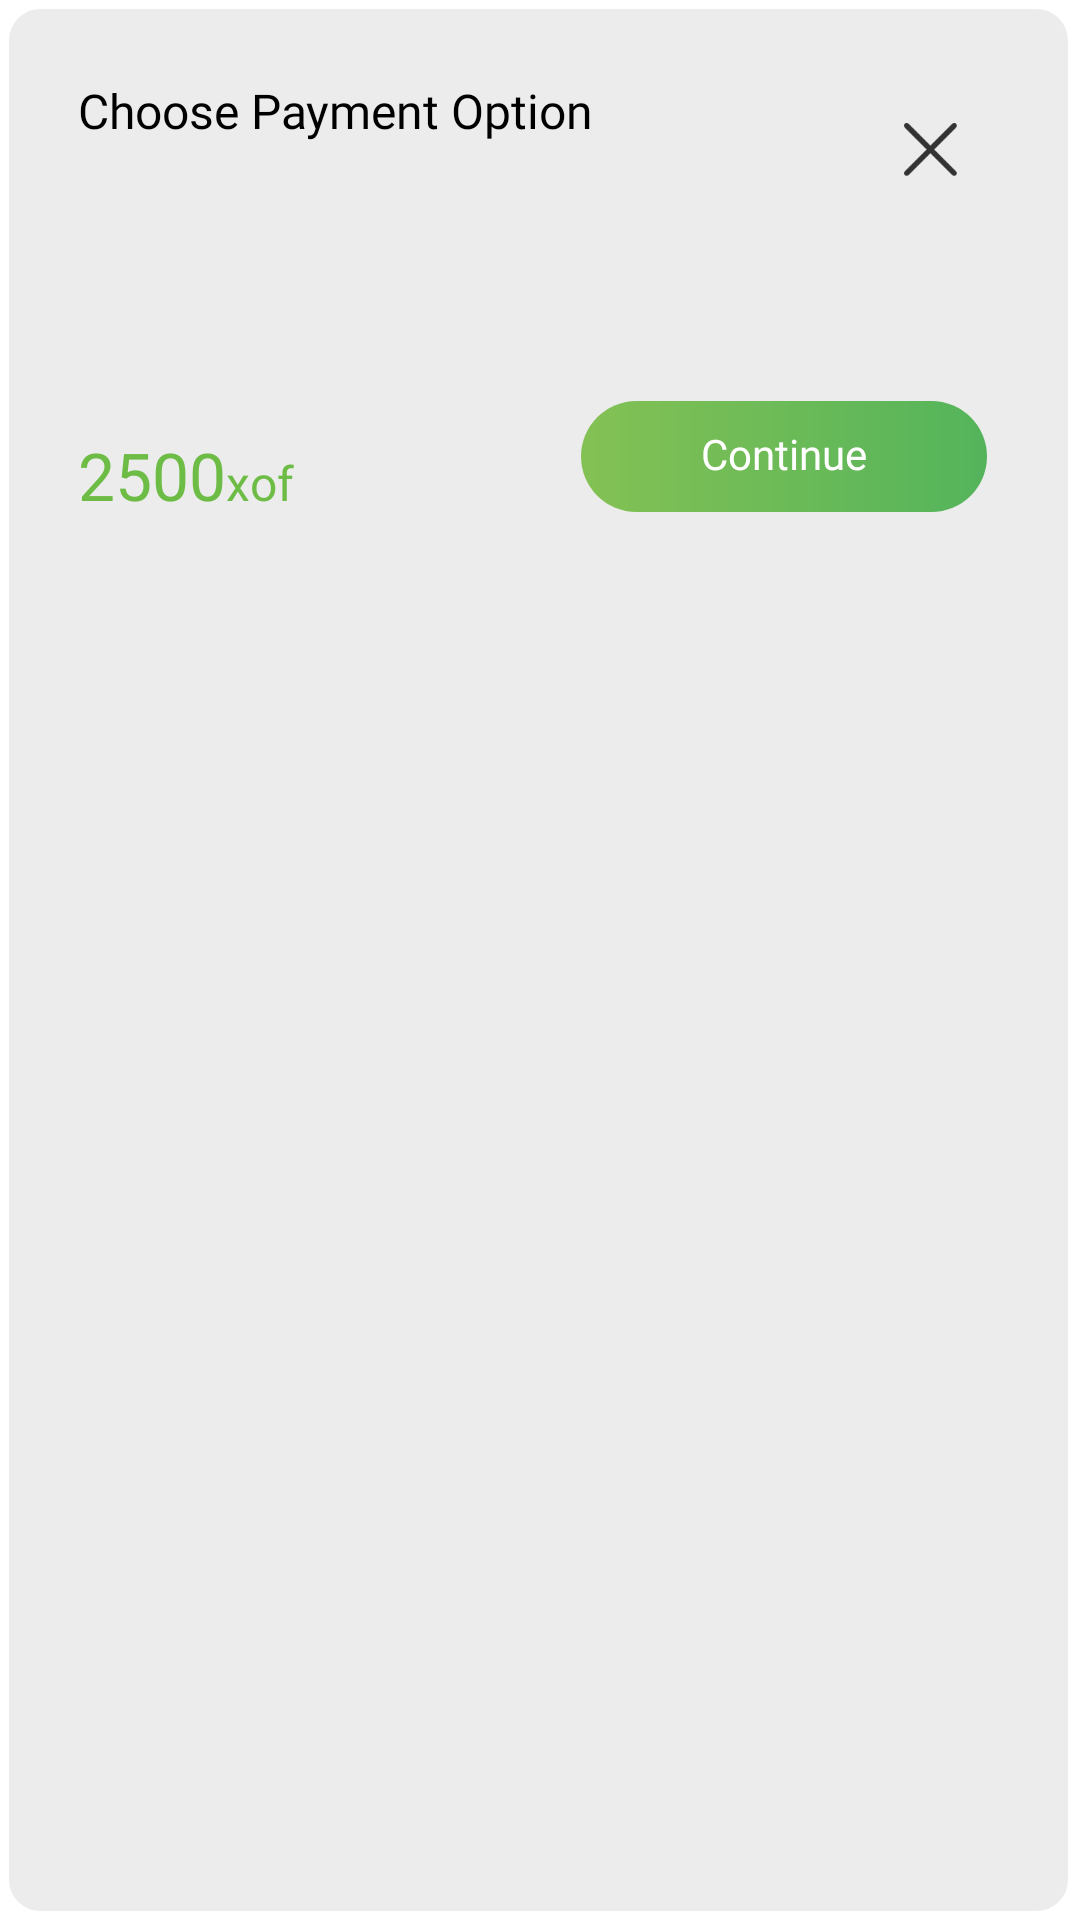

Screen size 1080 × 1920. Icon name, then its box in pixels as {"x1": x1, "y1": y1, "x2": x2, "y2": y2}:
close: {"x1": 904, "y1": 123, "x2": 957, "y2": 176}
